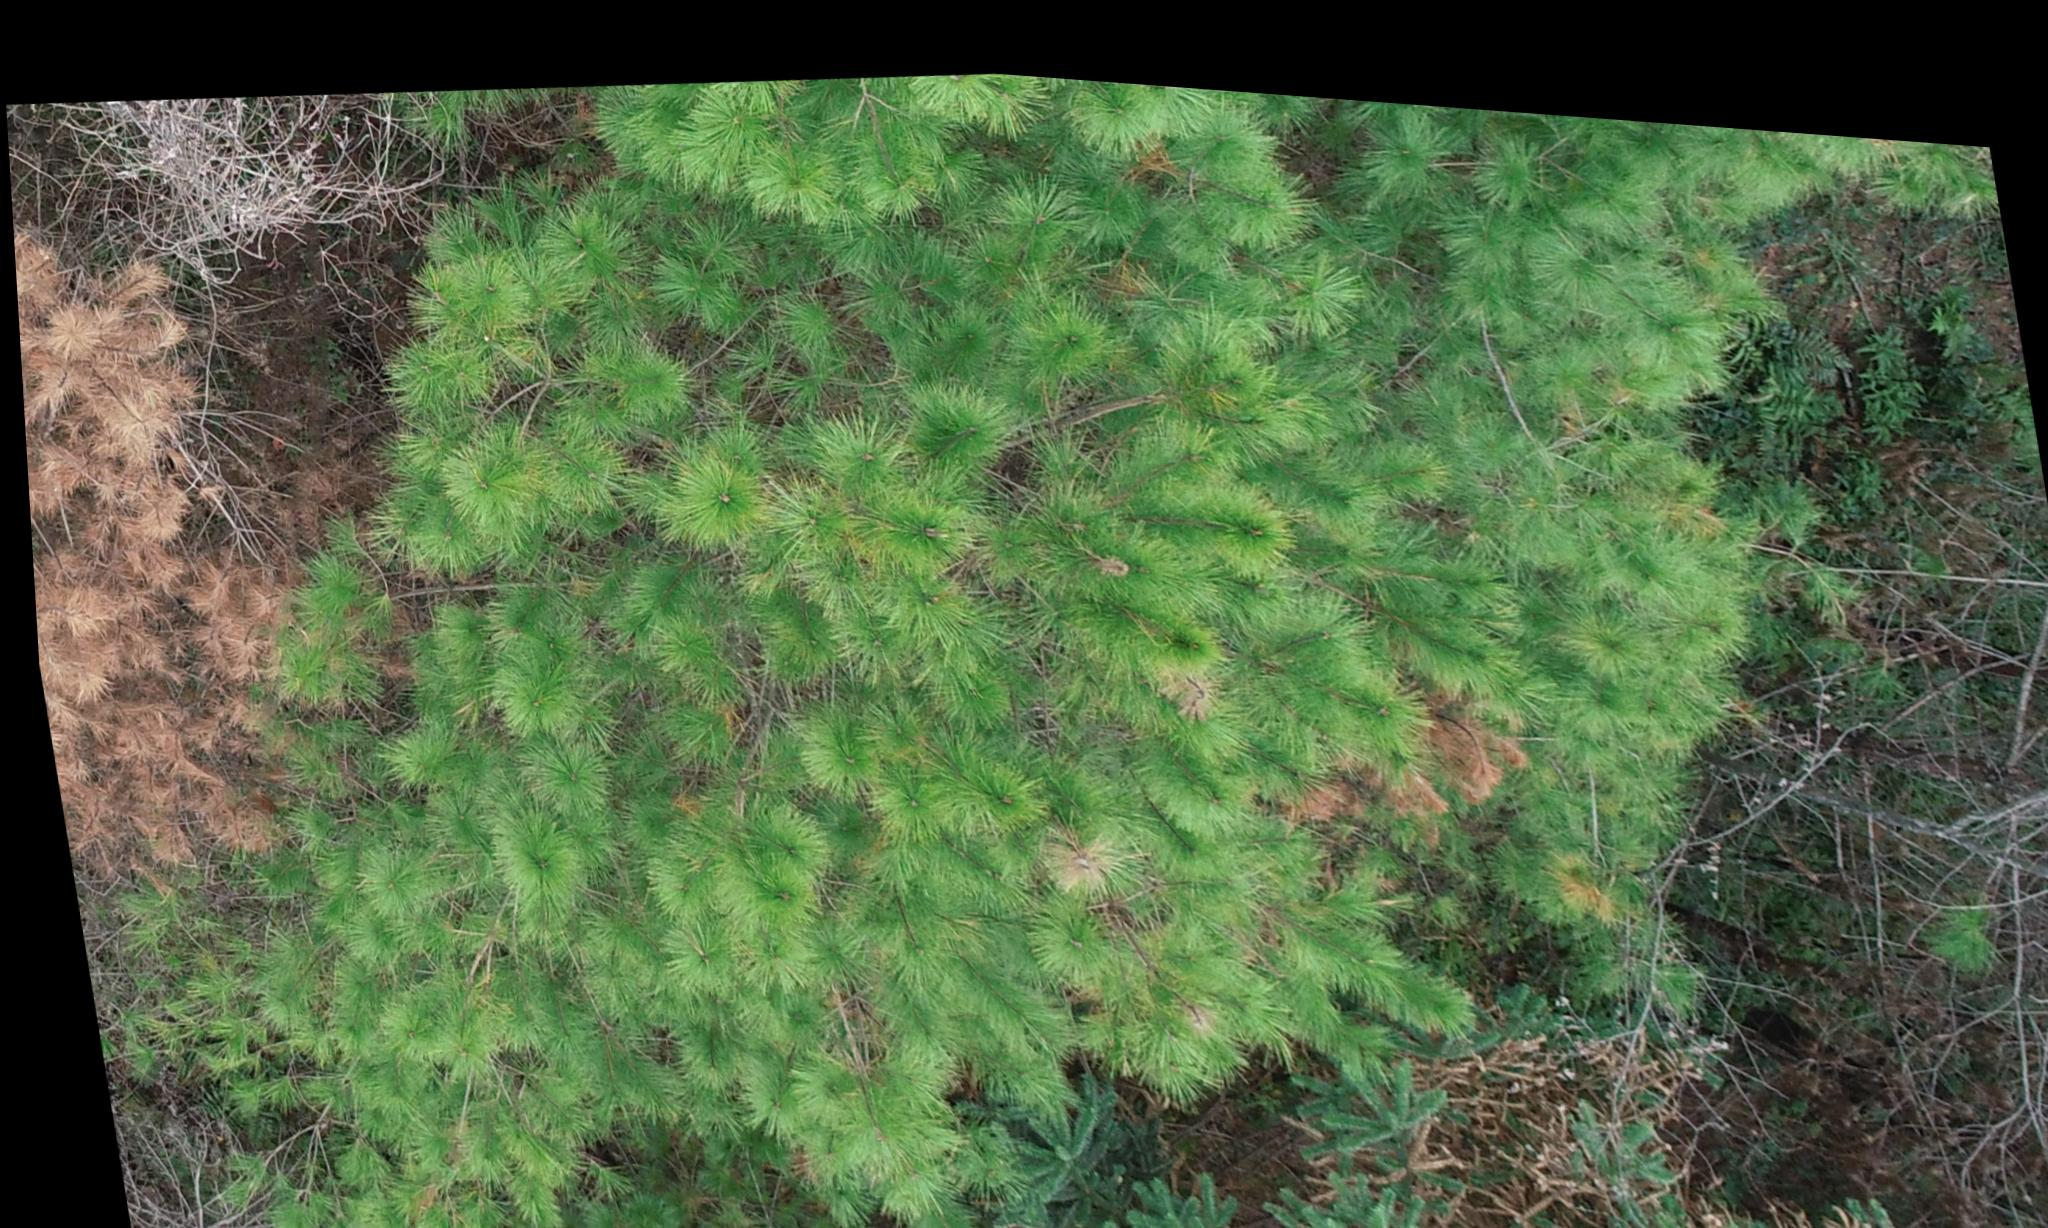heavy: (10, 211, 327, 858)
